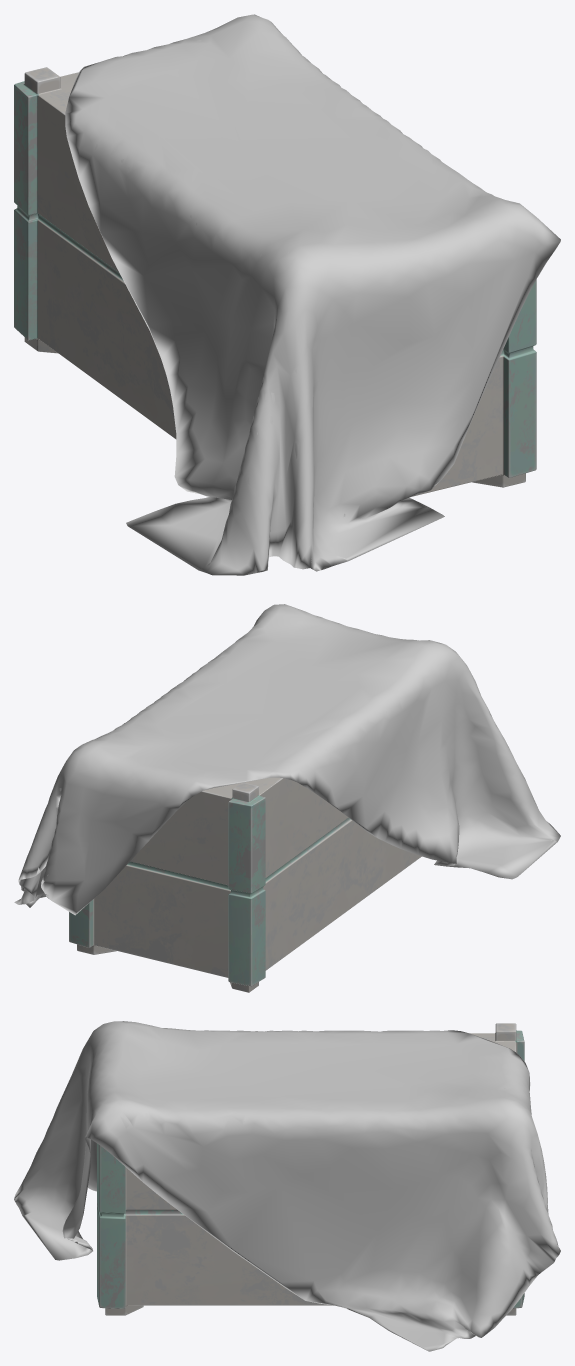
Rendered from SM_Container_02.fbx.
3 views of the same model, one above another, from view 1: azimuth 30°, elevation 25°; view 2: azimuth 150°, elevation 25°; view 3: azimuth 270°, elevation 25° (orthographic). The views are drawn at different scales.
Parts seen in each view (by area): view 1: SM_Container_02; view 2: SM_Container_02; view 3: SM_Container_02.
Part boxes in pixels (bbox=[...]): SM_Container_02: bbox=[14, 14, 560, 575]; SM_Container_02: bbox=[14, 604, 560, 992]; SM_Container_02: bbox=[14, 1021, 560, 1351].
Size of the model in its own units: 424 by 532 by 228.
